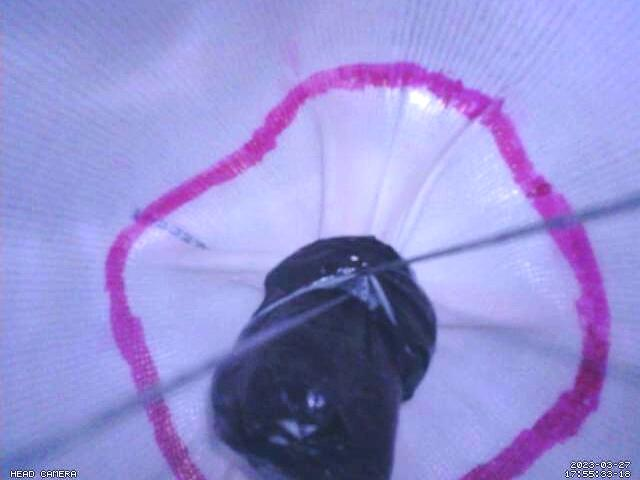red-circle: (104, 60, 612, 480)
